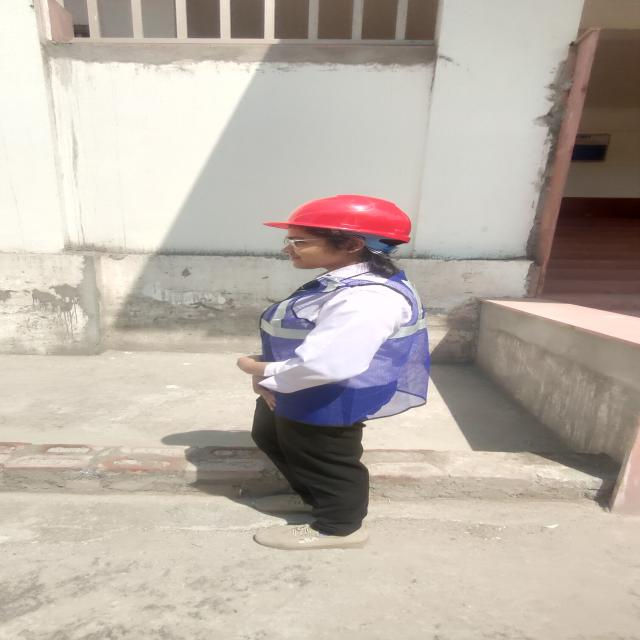safe: (238, 195, 426, 537)
